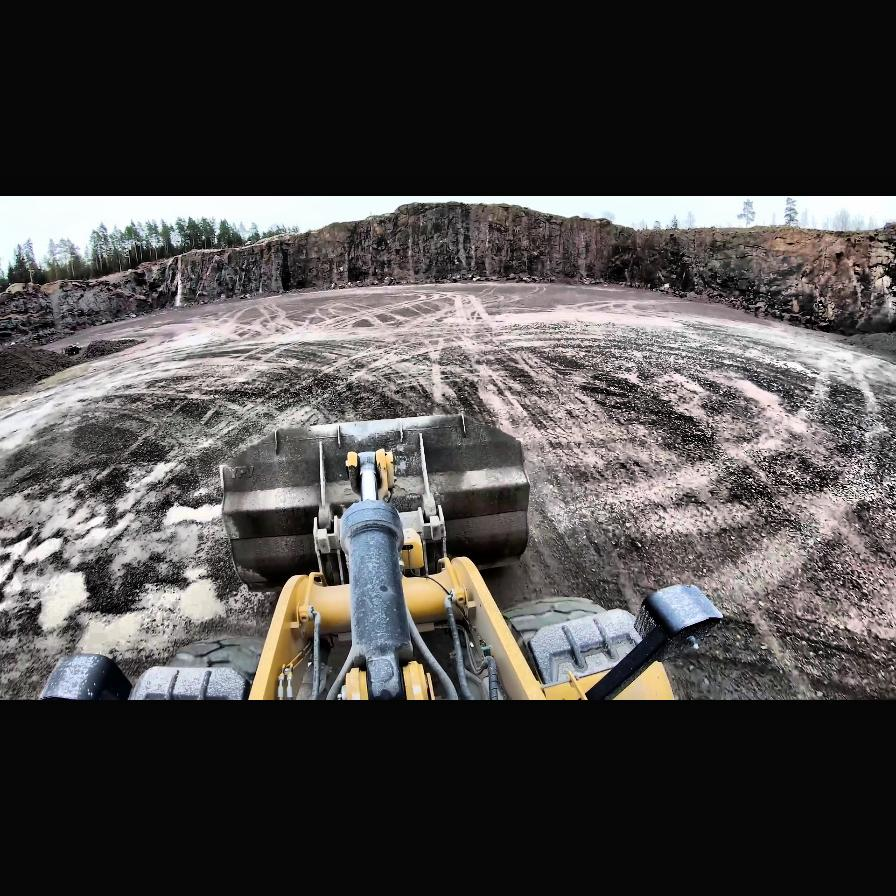anchor: (346, 449, 394, 503)
pile of gravel: (3, 334, 145, 390)
